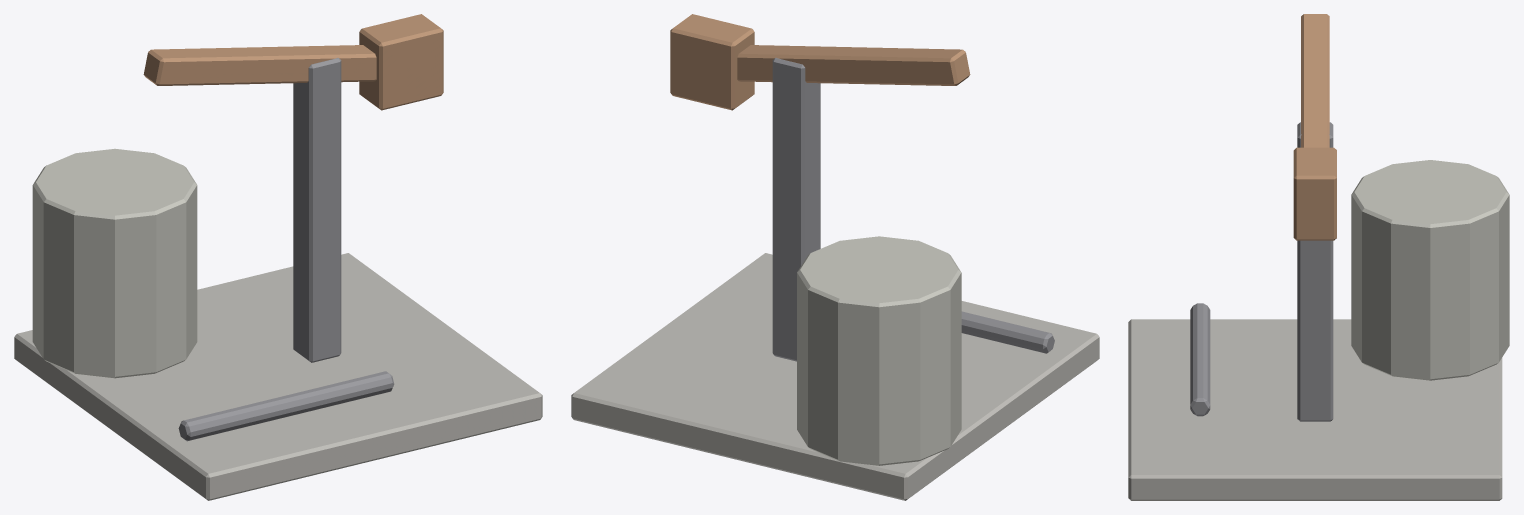
Rendered from oil_derrick.glb.
3 renders of one model, left to right at view 1: azimuth 30°, elevation 25°; view 2: azimuth 150°, elevation 25°; view 3: azimuth 270°, elevation 25°, orthographic. The views are drawn at different scales.
Parts seen in each view (by area): view 1: oil_derrick; view 2: oil_derrick; view 3: oil_derrick.
Part boxes in pixels (box(x1,y1,x2,y2)): oil_derrick: box(14, 14, 542, 500); oil_derrick: box(571, 14, 1099, 500); oil_derrick: box(1128, 14, 1509, 500).
Size of the model in its own units: 2.65 by 2.7 by 2.65.
